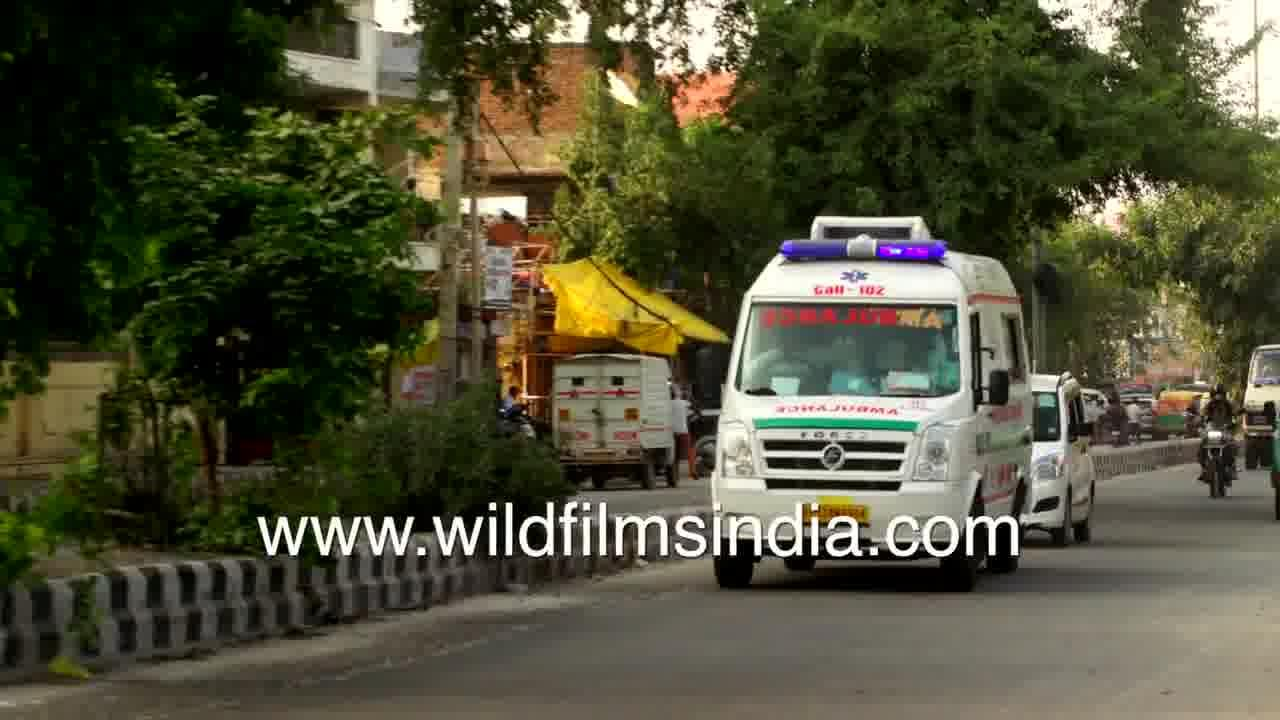AMBULANCE: (704, 208, 1030, 589)
